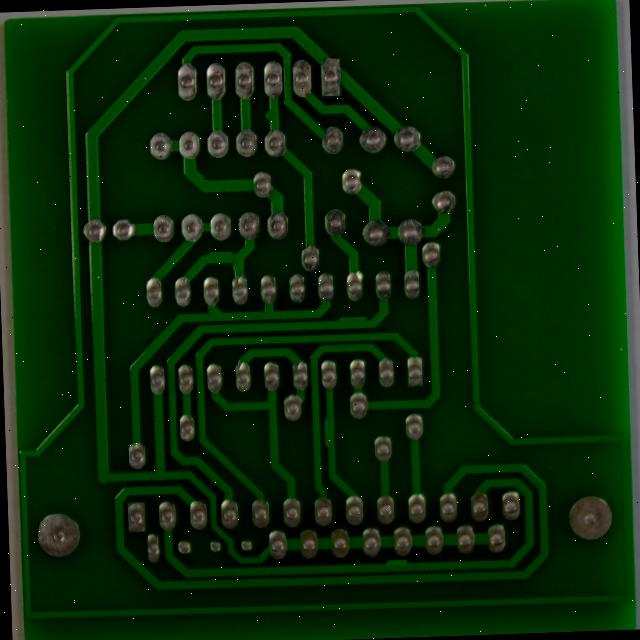spur: (333, 313, 379, 335), (209, 247, 242, 270), (325, 419, 345, 456), (383, 563, 419, 581), (264, 105, 283, 124)
